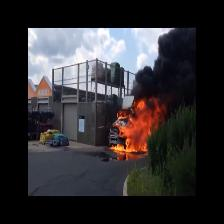fire: (125, 102, 163, 151)
smoke: (137, 67, 196, 102), (161, 31, 196, 62)
